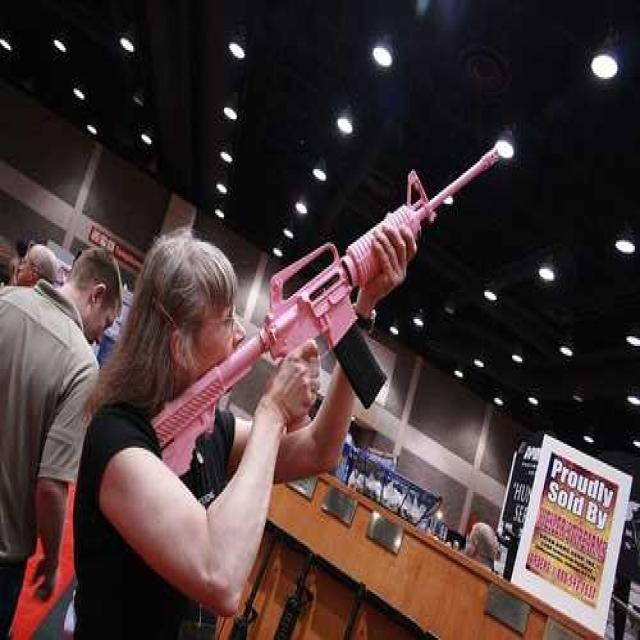Rifle: (136, 122, 526, 560)
